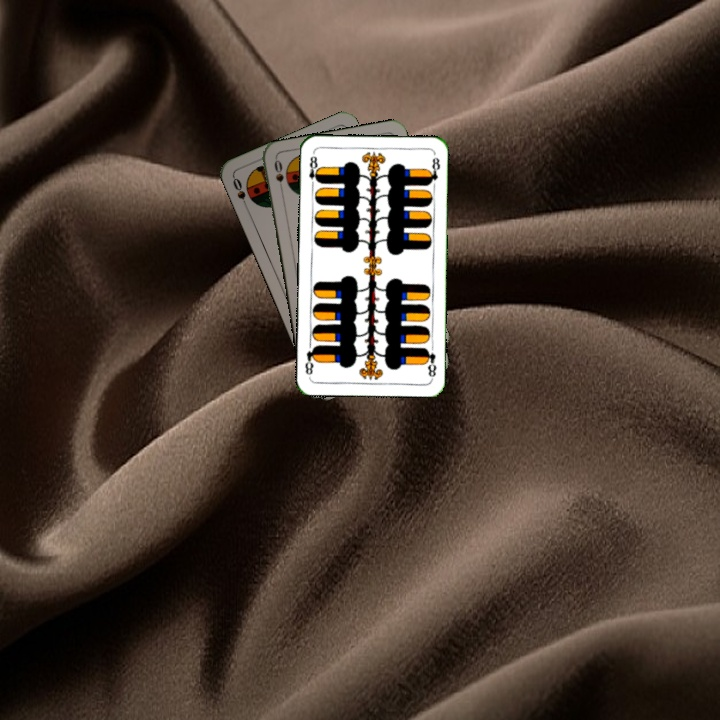E8: (421, 344, 439, 380), (305, 152, 322, 190)
SO: (229, 174, 251, 212), (270, 156, 286, 196)
